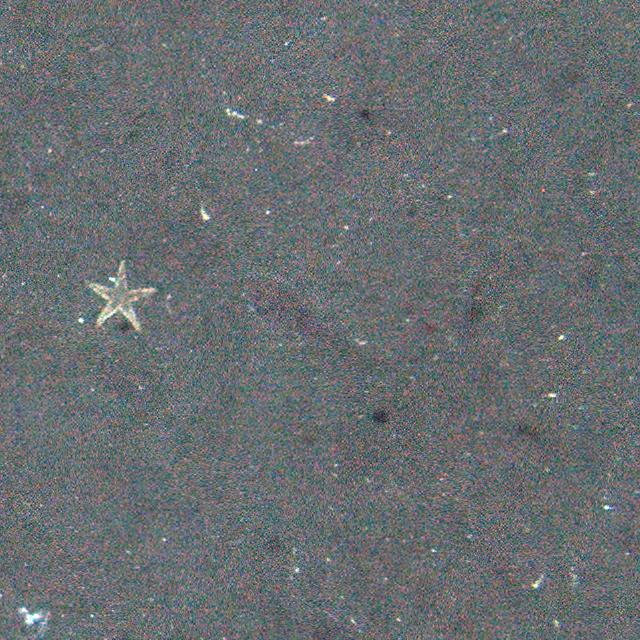flatfish: (233, 272, 361, 364)
